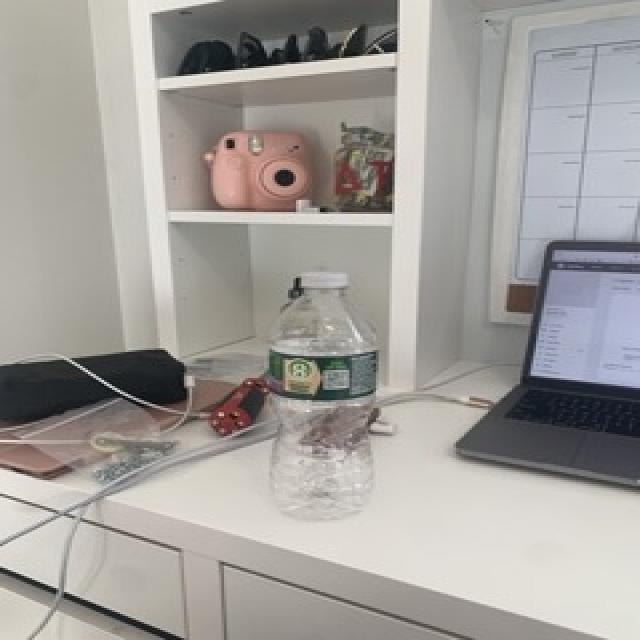water_bottle: (260, 269, 386, 523)
